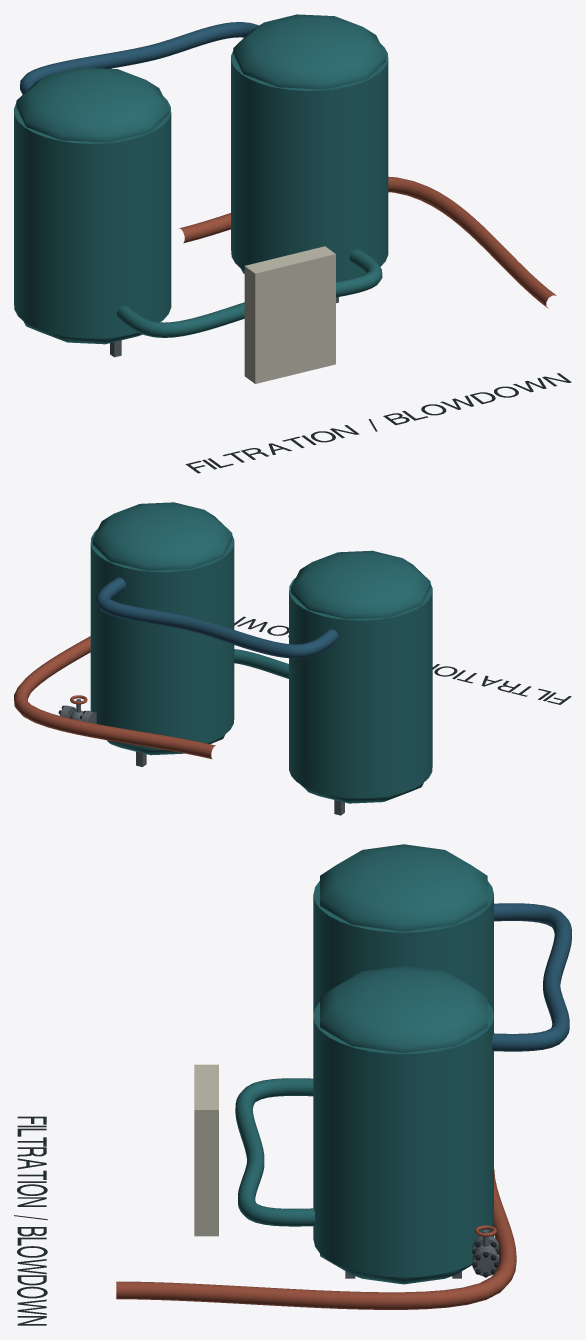
File: cooling-filter.9cf189f2d007.glb
The picture shows the model from 3 angles, top to bottom: view 1: azimuth 30°, elevation 25°; view 2: azimuth 150°, elevation 25°; view 3: azimuth 270°, elevation 25°; orthographic projection. The views are drawn at different scales.
Parts seen in each view (by area): view 1: structure_teal_00040, structure_cream_00043, structure_warm_00044, structure_blue_00042, structure_dark_00045; view 2: structure_teal_00040, structure_warm_00044, structure_blue_00042, structure_dark_00045, structure_steel_00041; view 3: structure_teal_00040, structure_warm_00044, structure_blue_00042, structure_cream_00043, structure_dark_00045, structure_steel_00041.
Part boxes in pixels (x1,y1,x2,y2): structure_teal_00040: (14, 14, 388, 344); structure_cream_00043: (244, 246, 335, 383); structure_warm_00044: (179, 176, 556, 308); structure_blue_00042: (20, 22, 258, 94); structure_dark_00045: (185, 373, 571, 473); structure_teal_00040: (90, 502, 432, 803); structure_warm_00044: (14, 636, 215, 759); structure_blue_00042: (96, 577, 338, 658); structure_dark_00045: (58, 616, 571, 719); structure_steel_00041: (60, 699, 344, 815); structure_teal_00040: (235, 844, 493, 1284); structure_warm_00044: (116, 1169, 516, 1309); structure_blue_00042: (492, 903, 571, 1051); structure_cream_00043: (194, 1064, 218, 1236); structure_dark_00045: (14, 1116, 498, 1325); structure_steel_00041: (345, 1230, 499, 1278).
Bounding box in the file's own units: 6.91 × 3.94 × 6.79.
Materials: 6 (2 with a texture image).
